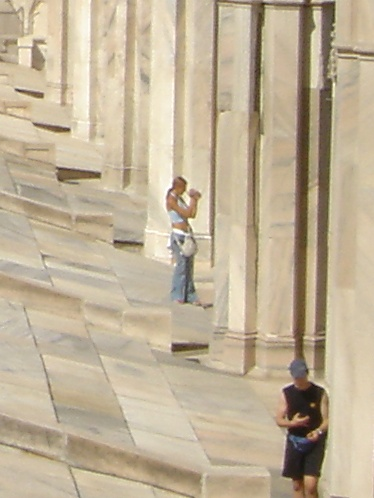person: (161, 172, 204, 306)
